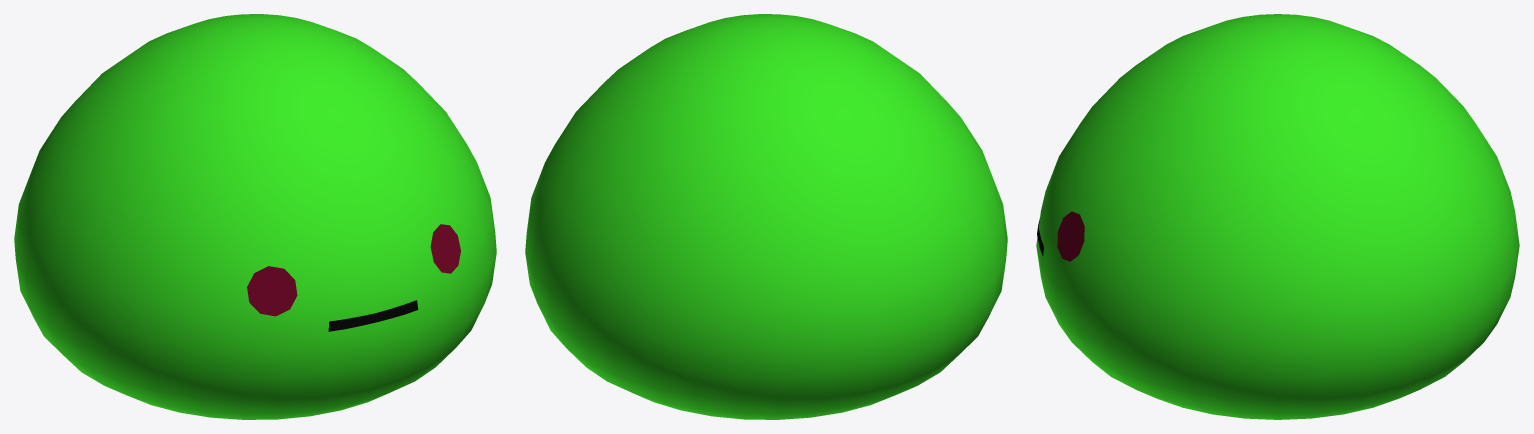
The model's file is Slimetwo.glb.
3 views of the same model, side by side, from view 1: azimuth 30°, elevation 25°; view 2: azimuth 150°, elevation 25°; view 3: azimuth 270°, elevation 25° (orthographic).
Visible parts, largest first — view 1: Sphere, Circle, Sphere.001; view 2: Sphere; view 3: Sphere, Circle.
Boxes of the visible parts, x1,y1,x2,y2 form: Sphere: (14, 14, 496, 419); Circle: (247, 224, 460, 316); Sphere.001: (328, 300, 418, 331); Sphere: (525, 14, 1007, 419); Sphere: (1036, 14, 1519, 419); Circle: (1057, 211, 1084, 261).
Size of the model in its own units: 2 by 1.54 by 2.
